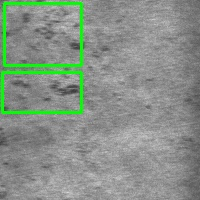rolled-in_scale: (4, 3, 81, 65), (2, 72, 81, 112)
